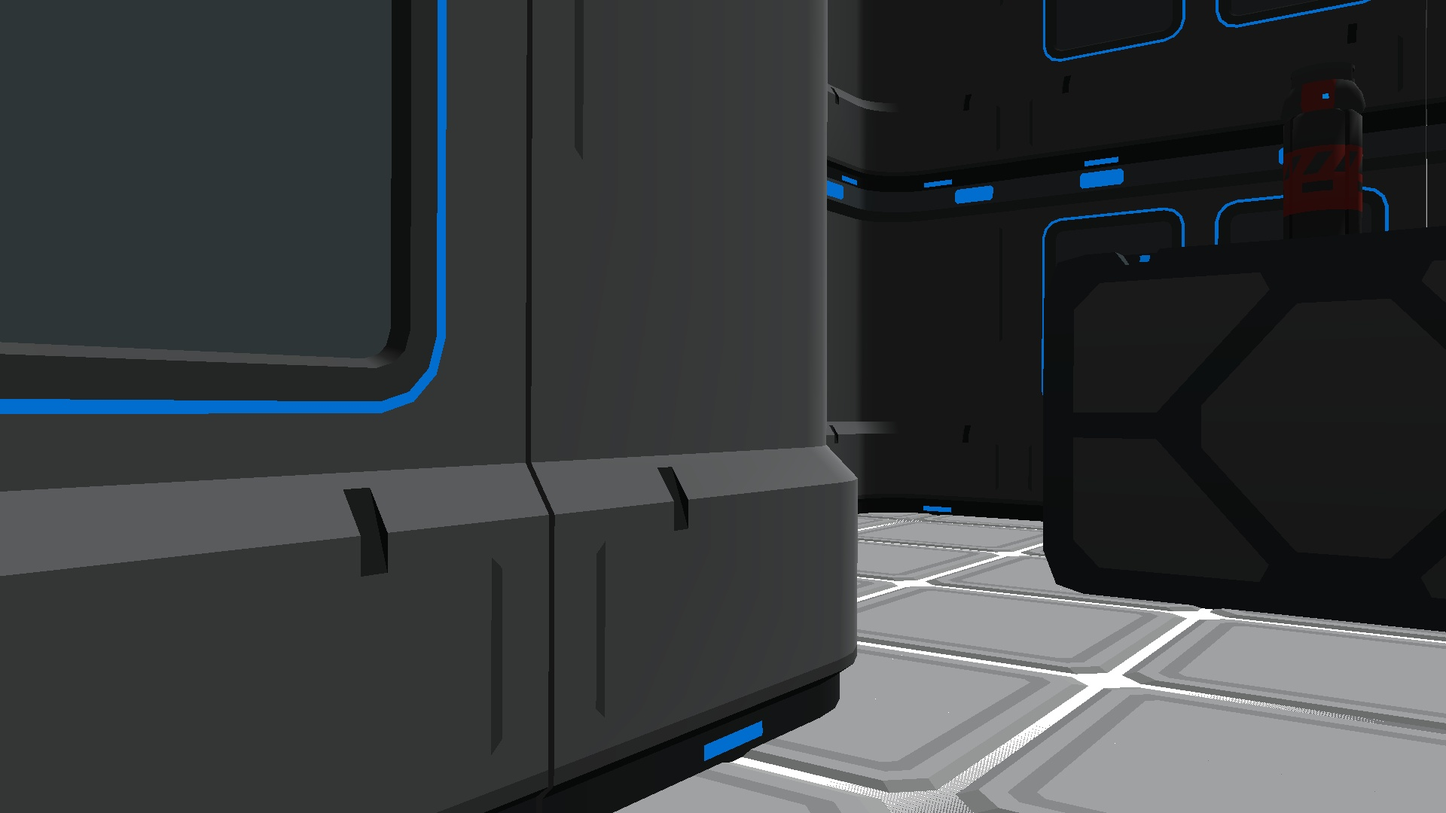red barrel: (1284, 80, 1365, 241)
